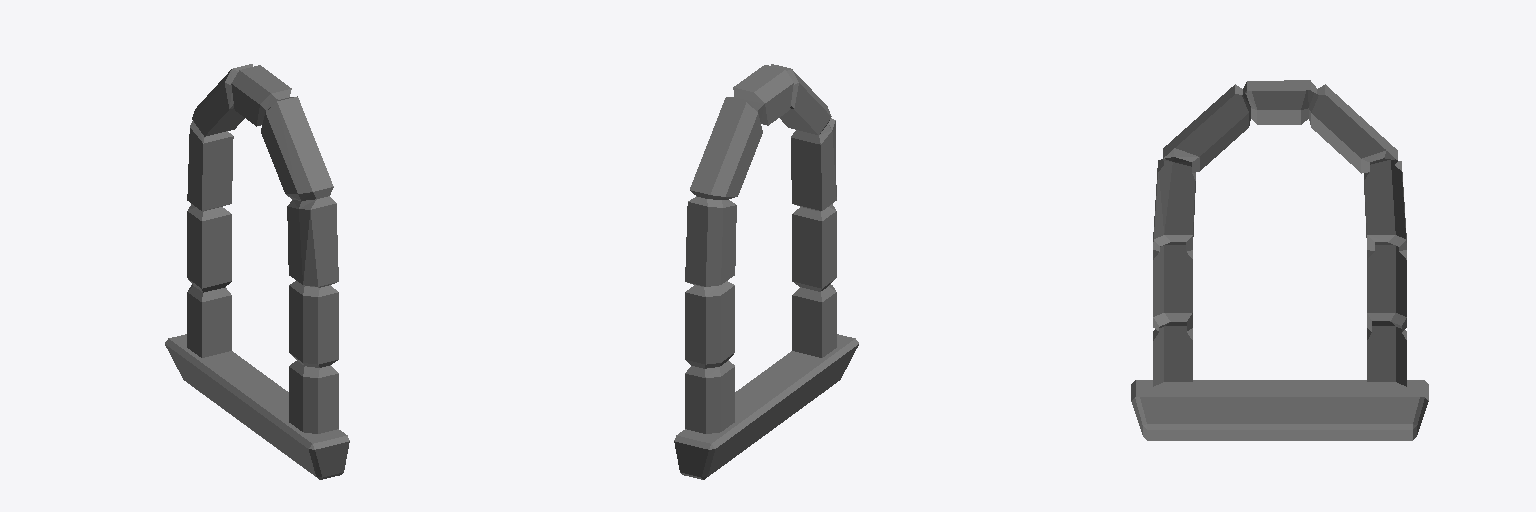
The model's file is Wallalcove.obj.
3 views of the same model, side by side, from view 1: azimuth 30°, elevation 25°; view 2: azimuth 150°, elevation 25°; view 3: azimuth 270°, elevation 25° (orthographic).
Parts seen in each view (by area): view 1: WallAlcove; view 2: WallAlcove; view 3: WallAlcove.
Part boxes in pixels (left/top/right/bottom): WallAlcove: left=165, top=64, right=349, bottom=479; WallAlcove: left=674, top=64, right=858, bottom=479; WallAlcove: left=1131, top=80, right=1428, bottom=440.
Bounding box in the file's own units: 0.1556 × 1.34 × 1.03.